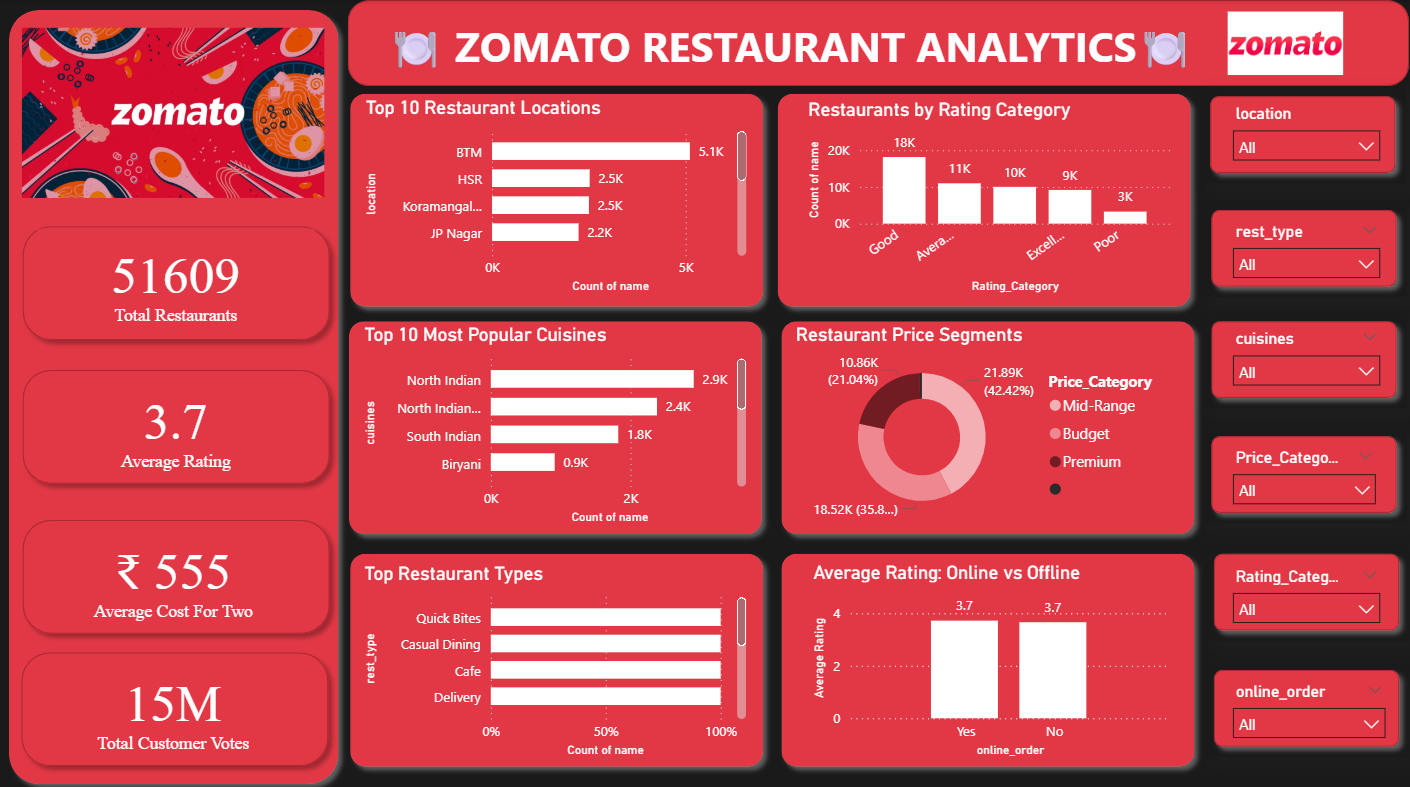

This screenshot's page, from the dashboard's own definition file:
{"tool":"powerbi","page":{"name":"Page 1","canvas":[1280,720],"ordinal":0},"visuals":[{"type":"shape","box":[0,0,317,720.5],"z":0},{"type":"image","box":[0,20,316.4,163.9],"z":1000},{"type":"shape","box":[12,195.7,296.6,121.3],"z":2000},{"type":"card","fields":{"Values":["Restaurants.Total Restaurants"]},"box":[34.8,207.7,251,96.1],"z":3000},{"type":"shape","box":[12,326.6,296.6,121.3],"z":4000},{"type":"shape","box":[12,462.3,296.6,121.3],"z":5000},{"type":"shape","box":[11.4,583,296.5,121.2],"z":6000},{"type":"card","fields":{"Values":["Restaurants.Average Rating"]},"box":[34.8,339.8,251,94.9],"z":7000},{"type":"card","fields":{"Values":["Restaurants.Average Cost"]},"box":[32.4,480.3,251,88.9],"z":8000},{"type":"card","fields":{"Values":["Restaurants.Total Votes"]},"box":[32.8,600.1,250.9,86.9],"z":9000},{"type":"shape","box":[317,0,963,78],"z":11000},{"type":"textbox","box":[326.6,10.8,815.3,67.2],"z":12000},{"type":"textbox","box":[377,0,121.3,78],"z":13000},{"type":"image","box":[1109.5,6,115.3,67.2],"z":14000},{"type":"shape","box":[309.8,75.6,392.6,211.3],"z":15000},{"type":"clusteredBarChart","title":"Top 10 Restaurant Locations","fields":{"Category":["Restaurants.location"],"Y":["CountNonNull(Restaurants.name)"]},"box":[327.8,87.7,355.4,183.7],"z":16000},{"type":"shape","box":[308.6,282.2,392.6,211.3],"z":17000},{"type":"shape","box":[309.8,493.5,392.6,211.3],"z":18000},{"type":"shape","box":[701.2,493.5,392.6,211.3],"z":19000},{"type":"shape","box":[697.6,75.6,392.6,211.3],"z":20000},{"type":"shape","box":[701.2,282.2,392.6,211.3],"z":21000},{"type":"clusteredColumnChart","title":"Restaurants by Rating Category","fields":{"Category":["Restaurants.Rating_Category"],"Y":["CountNonNull(Restaurants.name)"]},"box":[728.9,90.1,338.6,181.3],"z":22000},{"type":"clusteredBarChart","title":"Top 10 Most Popular Cuisines","fields":{"Category":["Restaurants.cuisines"],"Y":["CountNonNull(Restaurants.name)"]},"box":[326.4,293.6,356.3,186.7],"z":23000},{"type":"donutChart","title":"Restaurant Price Segments","fields":{"Y":["CountNonNull(Restaurants.name)"],"Category":["Restaurants.Price_Category"]},"box":[718.4,293.6,349.2,186.7],"z":24000},{"type":"hundredPercentStackedBarChart","title":"Top Restaurant Types","fields":{"Category":["Restaurants.rest_type"],"Y":["CountNonNull(Restaurants.name)"]},"box":[326.4,510.3,356.3,181],"z":25000},{"type":"clusteredColumnChart","title":"Average Rating: Online vs Offline","fields":{"Category":["Restaurants.online_order"],"Y":["Restaurants.Average Rating"]},"box":[734.1,508.9,333.5,182.4],"z":26000},{"type":"shape","box":[1093.9,493.5,186.1,87.7],"z":27000},{"type":"shape","box":[1091.5,386.6,186.1,87.7],"z":28000},{"type":"shape","box":[1091.5,282.2,186.1,87.7],"z":29000},{"type":"shape","box":[1091.5,181.3,186.1,87.7],"z":30000},{"type":"shape","box":[1090.3,78,186.1,87.7],"z":31000},{"type":"shape","box":[1093.9,599.2,186.1,87.7],"z":32000},{"type":"slicer","fields":{"Values":["Restaurants.location"]},"box":[1109.5,90.1,153.7,64.8],"z":33000},{"type":"slicer","fields":{"Values":["Restaurants.rest_type"]},"box":[1109.5,195.7,153.7,60],"z":34000},{"type":"slicer","fields":{"Values":["Restaurants.Rating_Category"]},"box":[1109.5,509.1,153.7,60],"z":35000},{"type":"slicer","fields":{"Values":["Restaurants.online_order"]},"box":[1109.5,613.6,158.5,60],"z":36000},{"type":"slicer","fields":{"Values":["Restaurants.Price_Category"]},"box":[1109.5,401.1,150.1,60],"z":37000},{"type":"slicer","fields":{"Values":["Restaurants.cuisines"]},"box":[1109.5,294.2,153.7,57.6],"z":38000}]}

Visuals, with their boxes in screenshot pixels (x1, y1, x2, y2), scaled from the page's 1280x720 canvas onto the 1410x787 screenshot:
shape: {"left": 0, "top": 0, "right": 349, "bottom": 786}
image: {"left": 0, "top": 22, "right": 349, "bottom": 201}
shape: {"left": 13, "top": 214, "right": 340, "bottom": 346}
card - Restaurants.Total Restaurants: {"left": 38, "top": 227, "right": 315, "bottom": 332}
shape: {"left": 13, "top": 357, "right": 340, "bottom": 490}
shape: {"left": 13, "top": 505, "right": 340, "bottom": 638}
shape: {"left": 13, "top": 637, "right": 339, "bottom": 770}
card - Restaurants.Average Rating: {"left": 38, "top": 371, "right": 315, "bottom": 475}
card - Restaurants.Average Cost: {"left": 36, "top": 525, "right": 312, "bottom": 622}
card - Restaurants.Total Votes: {"left": 36, "top": 656, "right": 313, "bottom": 751}
shape: {"left": 349, "top": 0, "right": 1409, "bottom": 85}
textbox: {"left": 360, "top": 12, "right": 1258, "bottom": 85}
textbox: {"left": 415, "top": 0, "right": 549, "bottom": 85}
image: {"left": 1222, "top": 7, "right": 1349, "bottom": 80}
shape: {"left": 341, "top": 83, "right": 774, "bottom": 314}
"Top 10 Restaurant Locations" clusteredBarChart: {"left": 361, "top": 96, "right": 753, "bottom": 297}
shape: {"left": 340, "top": 308, "right": 772, "bottom": 539}
shape: {"left": 341, "top": 539, "right": 774, "bottom": 770}
shape: {"left": 772, "top": 539, "right": 1205, "bottom": 770}
shape: {"left": 768, "top": 83, "right": 1201, "bottom": 314}
shape: {"left": 772, "top": 308, "right": 1205, "bottom": 539}
"Restaurants by Rating Category" clusteredColumnChart: {"left": 803, "top": 98, "right": 1176, "bottom": 297}
"Top 10 Most Popular Cuisines" clusteredBarChart: {"left": 360, "top": 321, "right": 752, "bottom": 525}
"Restaurant Price Segments" donutChart: {"left": 791, "top": 321, "right": 1176, "bottom": 525}
"Top Restaurant Types" hundredPercentStackedBarChart: {"left": 360, "top": 558, "right": 752, "bottom": 756}
"Average Rating: Online vs Offline" clusteredColumnChart: {"left": 809, "top": 556, "right": 1176, "bottom": 756}
shape: {"left": 1205, "top": 539, "right": 1409, "bottom": 635}
shape: {"left": 1202, "top": 423, "right": 1407, "bottom": 518}
shape: {"left": 1202, "top": 308, "right": 1407, "bottom": 404}
shape: {"left": 1202, "top": 198, "right": 1407, "bottom": 294}
shape: {"left": 1201, "top": 85, "right": 1406, "bottom": 181}
shape: {"left": 1205, "top": 655, "right": 1409, "bottom": 751}
slicer - Restaurants.location: {"left": 1222, "top": 98, "right": 1391, "bottom": 169}
slicer - Restaurants.rest_type: {"left": 1222, "top": 214, "right": 1391, "bottom": 279}
slicer - Restaurants.Rating_Category: {"left": 1222, "top": 556, "right": 1391, "bottom": 622}
slicer - Restaurants.online_order: {"left": 1222, "top": 671, "right": 1397, "bottom": 736}
slicer - Restaurants.Price_Category: {"left": 1222, "top": 438, "right": 1388, "bottom": 504}
slicer - Restaurants.cuisines: {"left": 1222, "top": 322, "right": 1391, "bottom": 385}
